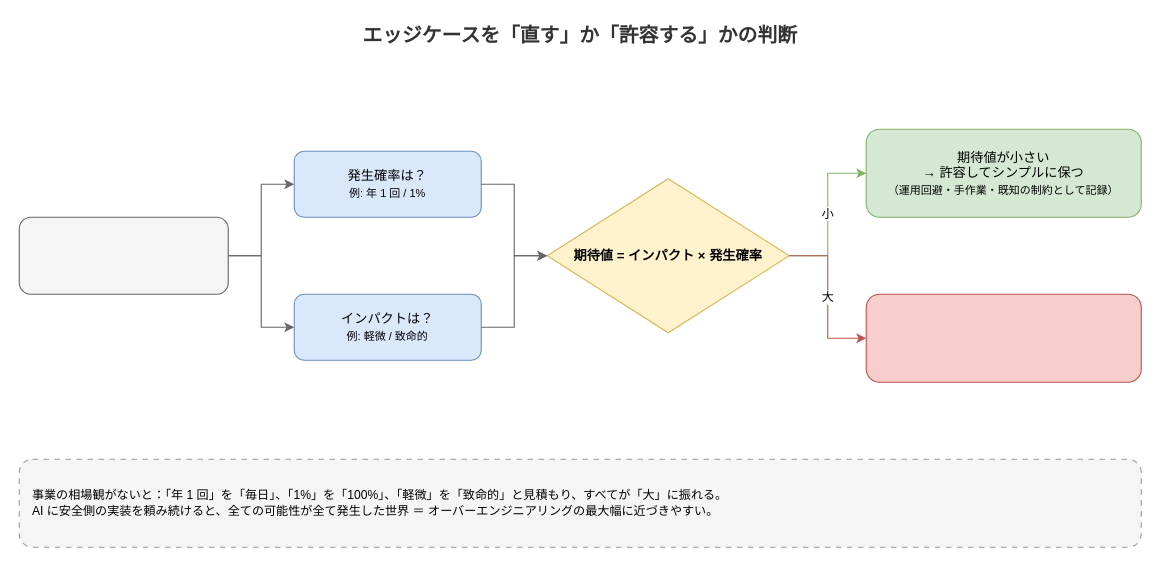
Some shapes in this 1161 by 567 pixel diagram are drawn without their labels. The shapes that lost their labels are listed below. From the top down, each one's centre as x and y in pixels, then its label:
At pixel 123 255: "エッジケースを発見 （AI が提案 / レビューで指摘）".
At pixel 1003 337: "期待値が大きい → コードで対応する （保守対象が増えるコストも込みで判断）".
